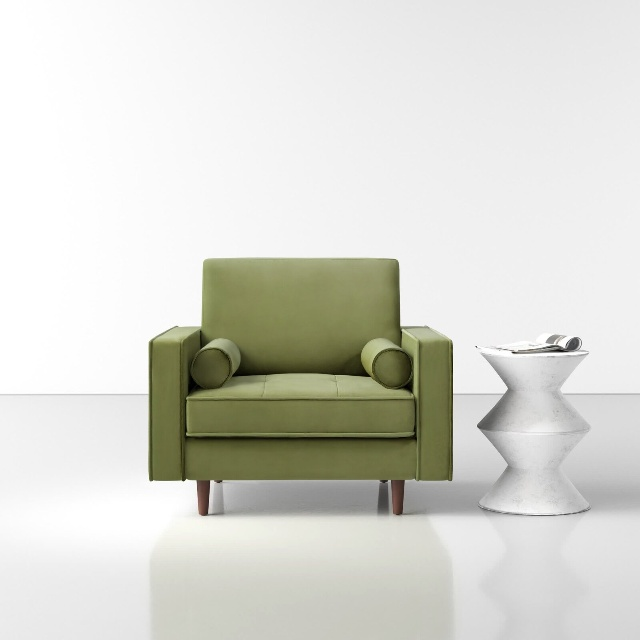obstacle: (149, 258, 452, 512)
